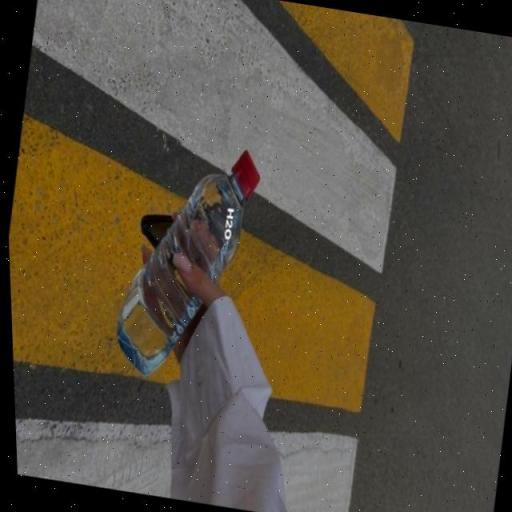plastic: (113, 151, 259, 377)
